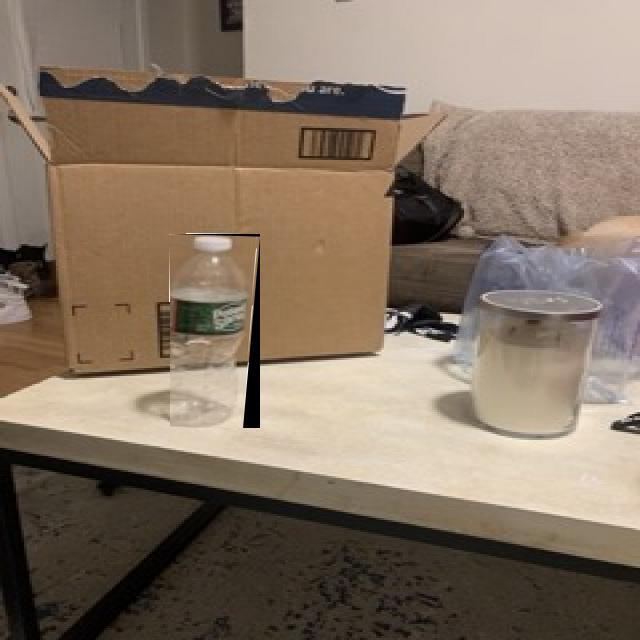water_bottle: (170, 234, 260, 428)
